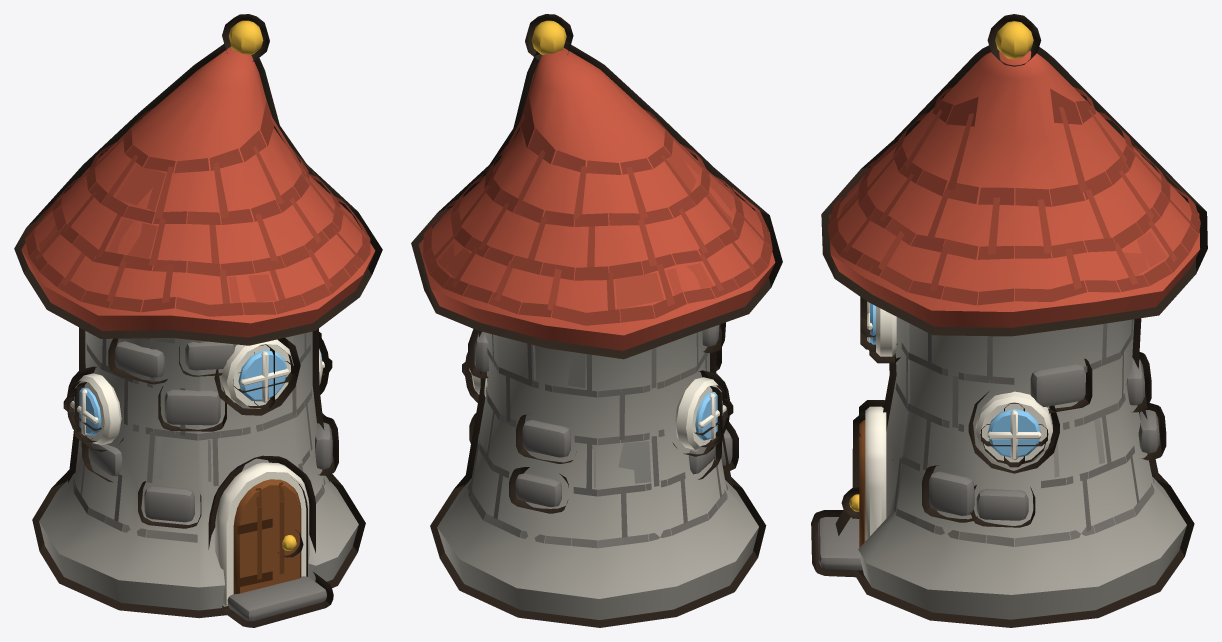
File: house-5.glb
The picture shows the model from 3 angles, left to right: view 1: azimuth 30°, elevation 25°; view 2: azimuth 150°, elevation 25°; view 3: azimuth 270°, elevation 25°; orthographic projection. The views are drawn at different scales.
Visible parts, largest first — view 1: house-5; view 2: house-5; view 3: house-5.
Boxes of the visible parts, <box> form: house-5: <box>14,14,382,627</box>; house-5: <box>411,14,782,627</box>; house-5: <box>811,14,1207,627</box>.
Size of the model in its own units: 2.66 by 4.19 by 2.66.
